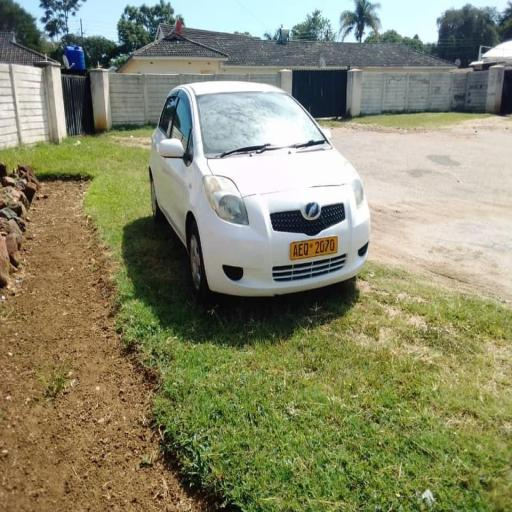number-plates: (288, 236, 338, 260)
